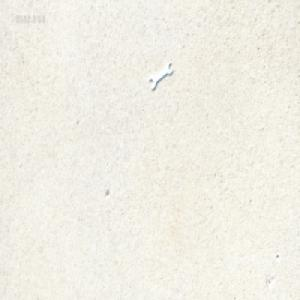Wrench: (149, 60, 173, 90)
